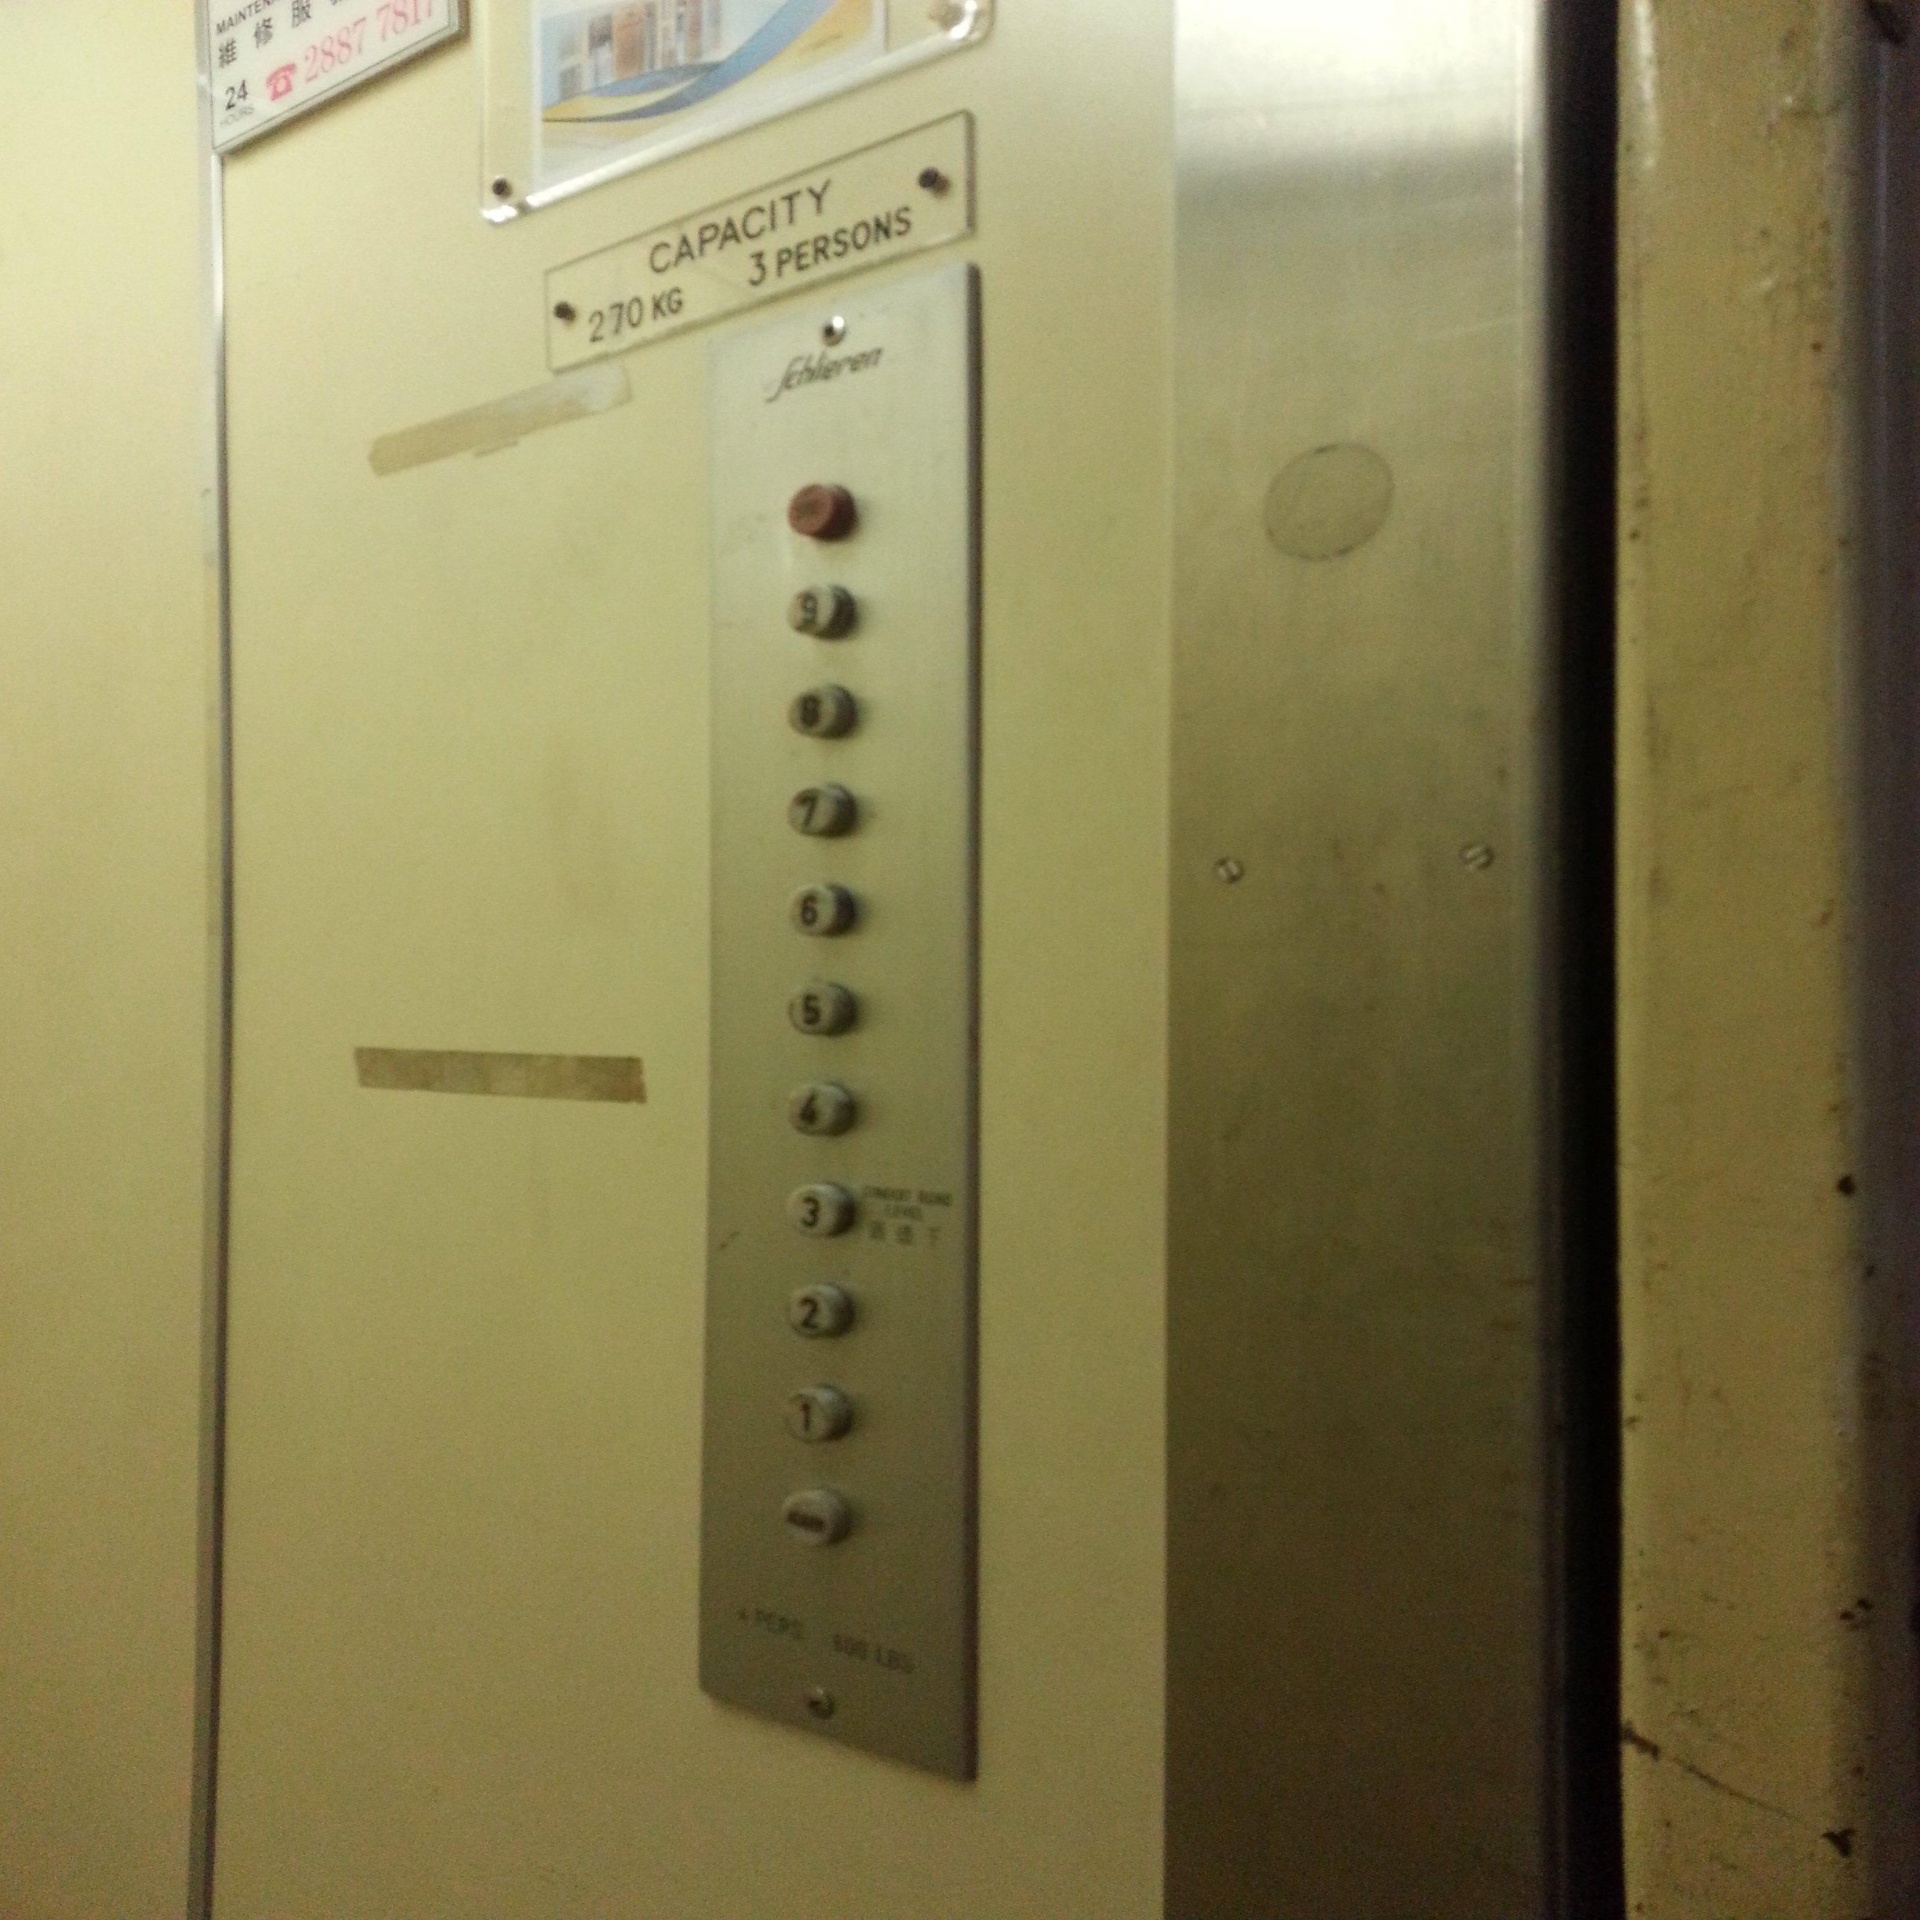1: (775, 1380, 853, 1449)
2: (777, 1278, 856, 1347)
3: (777, 1176, 856, 1245)
4: (779, 1074, 856, 1143)
5: (781, 978, 860, 1044)
6: (775, 877, 855, 944)
7: (777, 777, 856, 846)
8: (781, 679, 858, 745)
9: (777, 577, 855, 644)
text: (775, 1482, 853, 1551)
text_blur: (781, 476, 860, 543)
